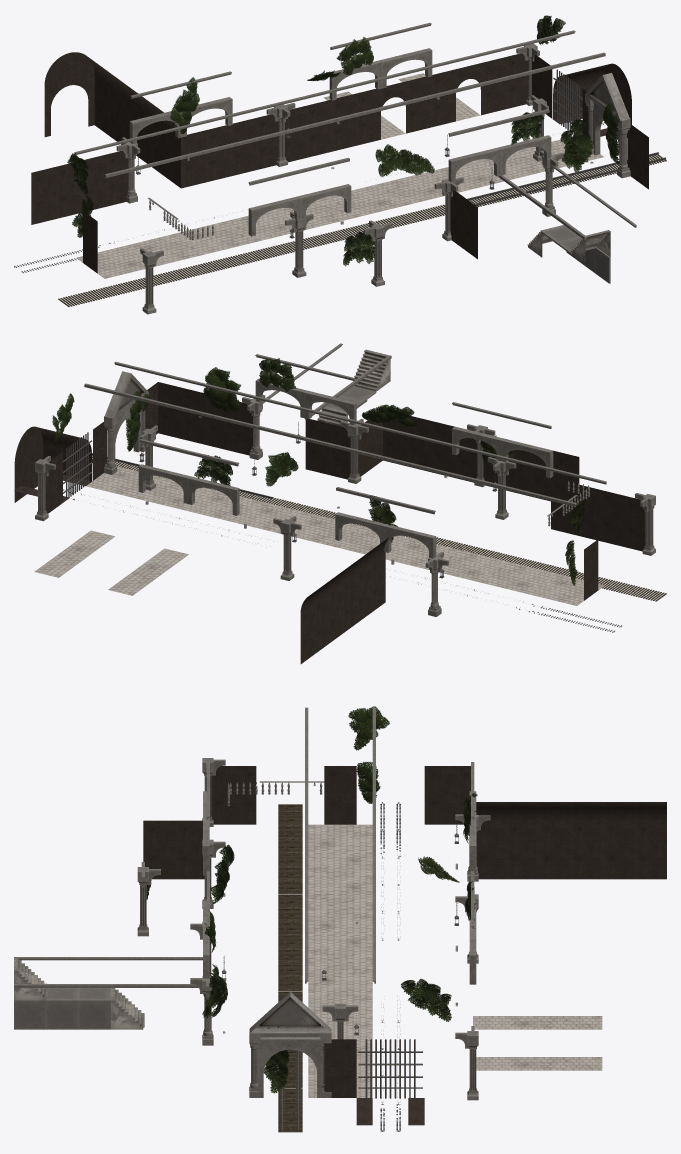
File: metro_station_2.glb
3 renders of one model, top to bottom at view 1: azimuth 30°, elevation 25°; view 2: azimuth 150°, elevation 25°; view 3: azimuth 270°, elevation 25°, orthographic. The views are drawn at different scales.
Parts seen in each view (by area): view 1: Main_Walls, Main_Roof, Platform2, Large_Corridor1, Railway_Track2, Corridors, Tunnel_Arch3, Tunnel_Entrance4, Ivy_Large_Group4, Ivy_Large_Group8, Metal_Gate4, Ivy_Group1 (+15 smaller); view 2: Main_Walls, Platform2, Main_Roof, Large_Corridor1, Tunnel_Entrance4, Railway_Track2, Corridors, Tunnel_Arch3, Small_Corridor1, Small_Corridor2, Metal_Gate4, Ivy_Large_Group8 (+15 smaller); view 3: Large_Corridor1, Platform2, Main_Walls, Corridors, Railway_Track2, Main_Roof, Tunnel_Arch3, Metal_Gate4, Small_Corridor2, Small_Corridor1, Ivy_Group7, Ivy_Group16 (+9 smaller).
Part boxes in pixels (<box>): Main_Walls: <box>31,53,648,273</box>; Main_Roof: <box>74,22,605,236</box>; Platform2: <box>76,137,603,278</box>; Large_Corridor1: <box>44,52,180,187</box>; Railway_Track2: <box>58,152,666,306</box>; Corridors: <box>498,164,636,283</box>; Tunnel_Arch3: <box>585,73,630,178</box>; Tunnel_Entrance4: <box>553,63,631,137</box>; Ivy_Large_Group4: <box>375,144,434,176</box>; Ivy_Large_Group8: <box>560,119,594,172</box>; Metal_Gate4: <box>553,69,582,133</box>; Ivy_Group1: <box>336,37,373,74</box>; Main_Walls: <box>45,382,645,600</box>; Platform2: <box>86,466,604,605</box>; Main_Roof: <box>84,354,606,558</box>; Large_Corridor1: <box>300,537,389,663</box>; Tunnel_Entrance4: <box>14,426,92,502</box>; Railway_Track2: <box>92,453,666,601</box>; Corridors: <box>263,343,391,426</box>; Tunnel_Arch3: <box>104,371,148,474</box>; Small_Corridor1: <box>34,530,114,577</box>; Small_Corridor2: <box>108,548,188,595</box>; Metal_Gate4: <box>63,432,91,499</box>; Ivy_Large_Group8: <box>203,367,241,412</box>; Large_Corridor1: <box>476,802,666,879</box>; Platform2: <box>308,824,372,1097</box>; Main_Walls: <box>143,766,470,1097</box>; Corridors: <box>14,957,202,1029</box>; Railway_Track2: <box>278,804,302,1132</box>; Main_Roof: <box>203,707,476,984</box>; Tunnel_Arch3: <box>249,991,331,1097</box>; Metal_Gate4: <box>358,1039,422,1098</box>; Small_Corridor2: <box>473,1016,602,1029</box>; Small_Corridor1: <box>476,1057,602,1070</box>; Ivy_Group7: <box>401,978,451,1021</box>; Ivy_Group16: <box>348,706,389,750</box>.
Bounding box in the file's own units: 48 × 9.24 × 40.4.
7 materials, 7 textured.
